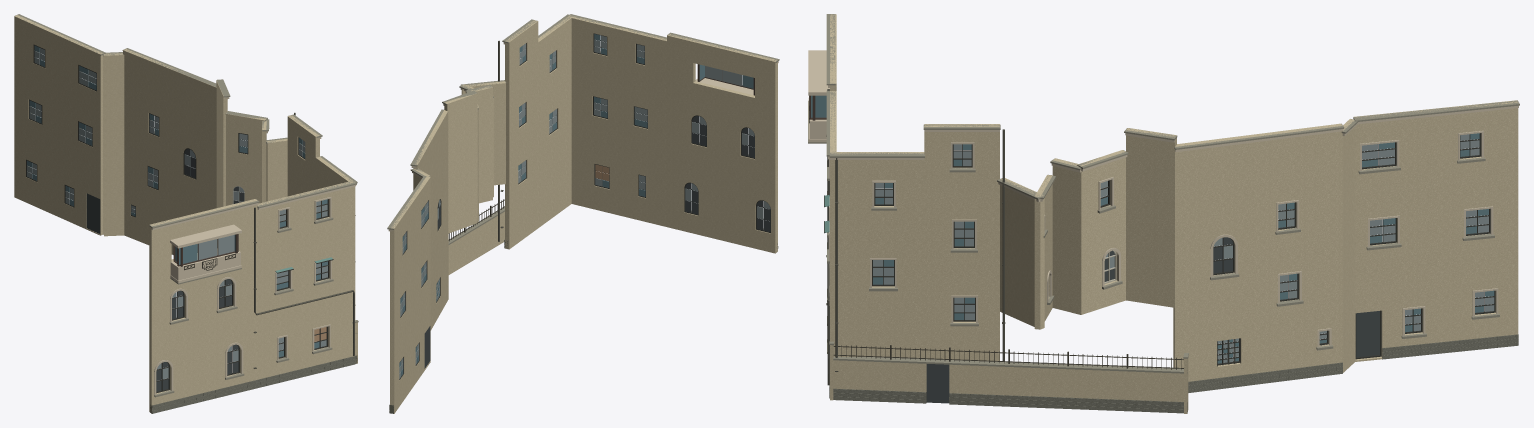
The model's file is xuhui-taiyuan-lane-4-cihui-village-raw.glb.
3 views of the same model, side by side, from view 1: azimuth 30°, elevation 25°; view 2: azimuth 150°, elevation 25°; view 3: azimuth 270°, elevation 25° (orthographic). The views are drawn at different scales.
Parts seen in each view (by area): view 1: 慈惠村太原路4弄1—2号临街转角; view 2: 慈惠村太原路4弄1—2号临街转角; view 3: 慈惠村太原路4弄1—2号临街转角.
Boxes of the visible parts, bbox=[...] form: 慈惠村太原路4弄1—2号临街转角: bbox=[14, 14, 358, 413]; 慈惠村太原路4弄1—2号临街转角: bbox=[387, 14, 779, 413]; 慈惠村太原路4弄1—2号临街转角: bbox=[808, 14, 1519, 413].
Bounding box in the file's own units: 14.18 × 11.78 × 27.99.
Materials: 15 (2 with a texture image).
